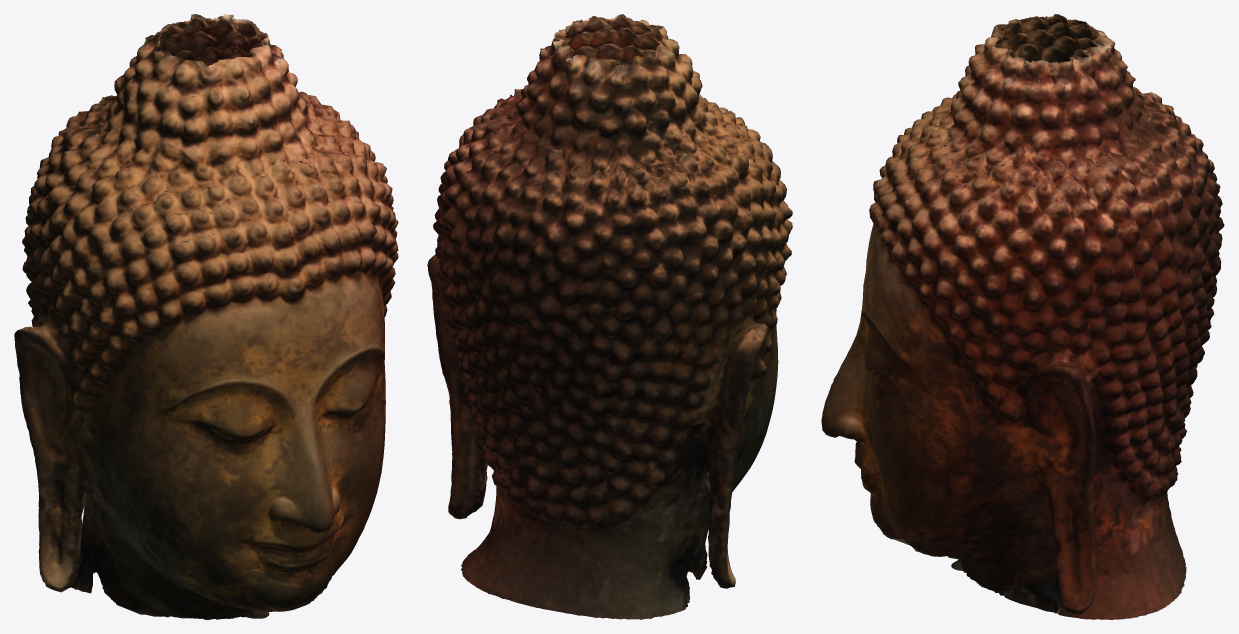
The picture shows the model from 3 angles, left to right: view 1: azimuth 30°, elevation 25°; view 2: azimuth 150°, elevation 25°; view 3: azimuth 270°, elevation 25°; orthographic projection. The views are drawn at different scales.
Parts seen in each view (by area): view 1: statue-013; view 2: statue-013; view 3: statue-013.
Part boxes in pixels (x1,y1,x2,y2): statue-013: [14, 14, 398, 619]; statue-013: [427, 14, 792, 619]; statue-013: [821, 14, 1224, 619].
Bounding box in the file's own units: 0.6774 × 1 × 0.6926.
1 material, 1 textured.
